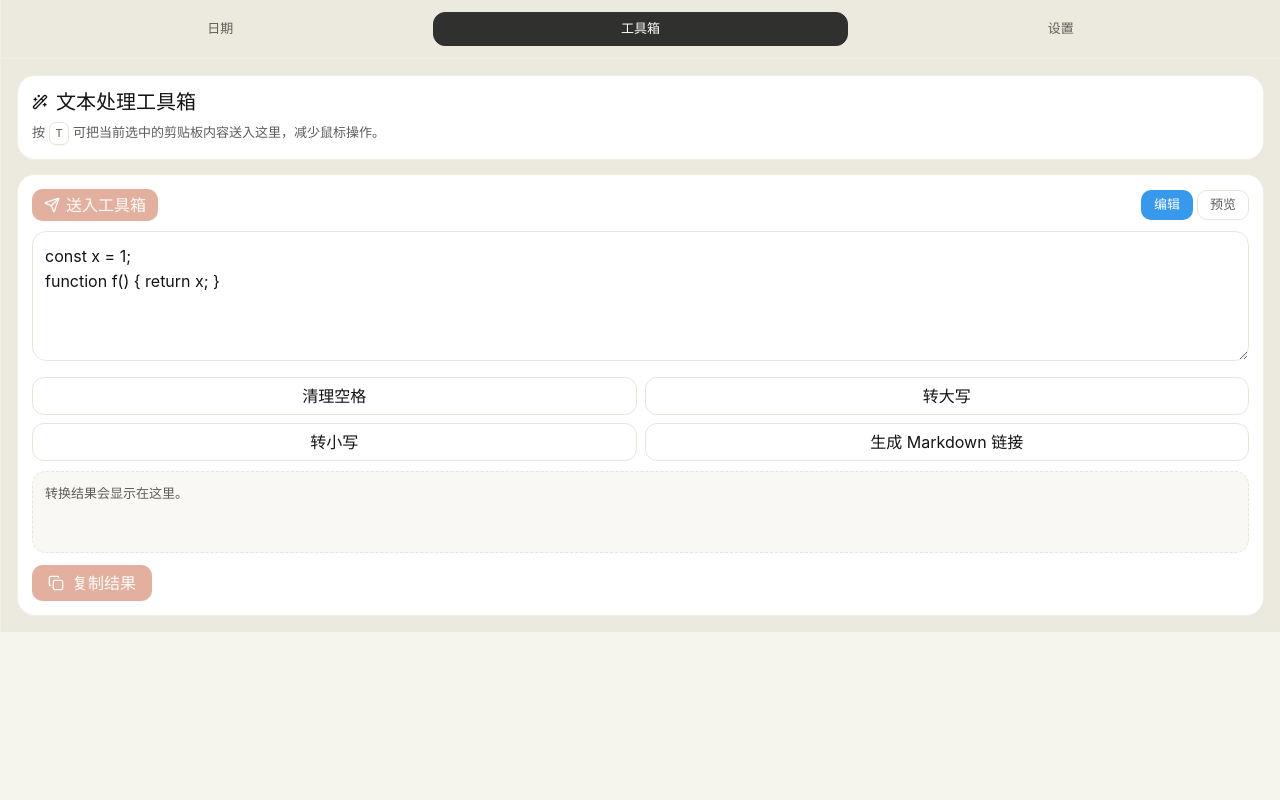
ToolboxPanel highlight › renders a highlighted code block in preview mode
This screenshot has width=1280, height=800.
Expected: the text box with class "toolbox-input" is shown, [32, 231, 1249, 361]
Click the button "预览": x=1223, y=205 [1197, 190, 1249, 220]
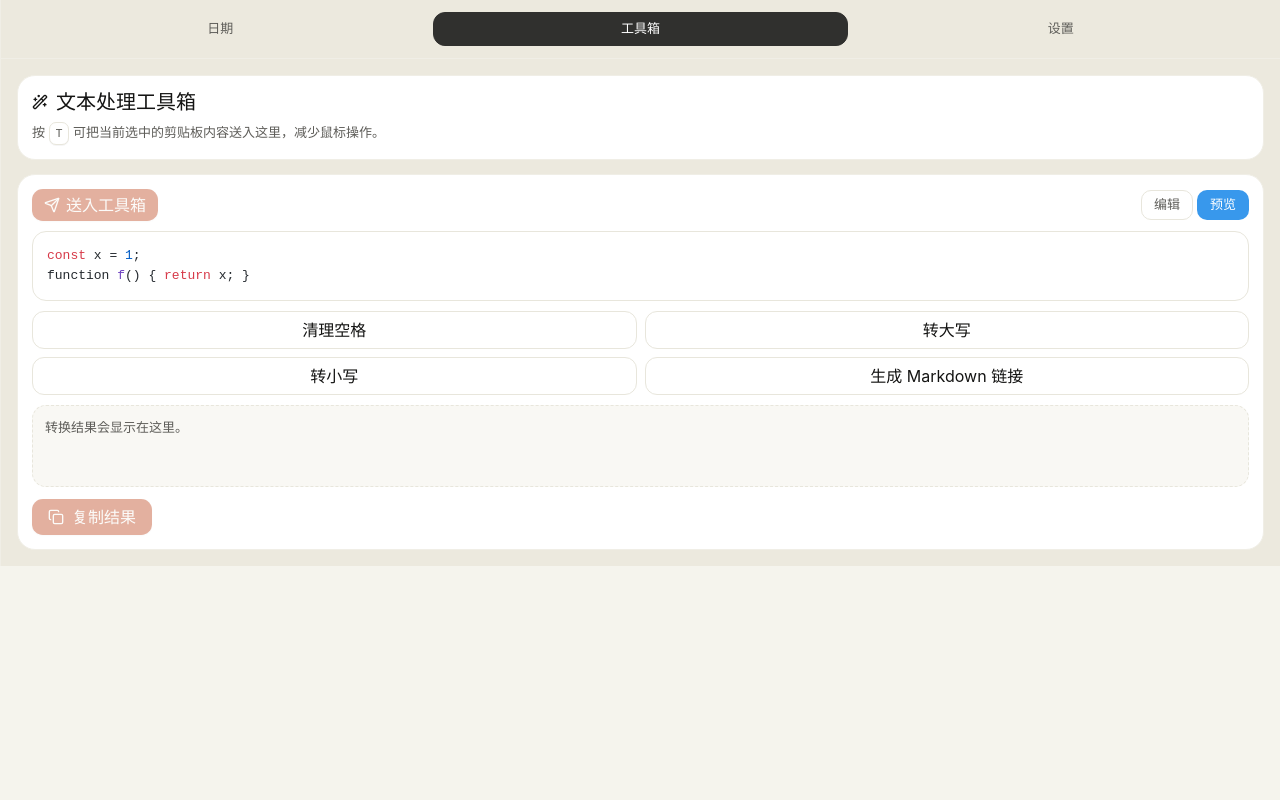
Expected: the element with class "hljs" is shown, [47, 248, 250, 283]
Expected: the text box with class "toolbox-input" is gone
